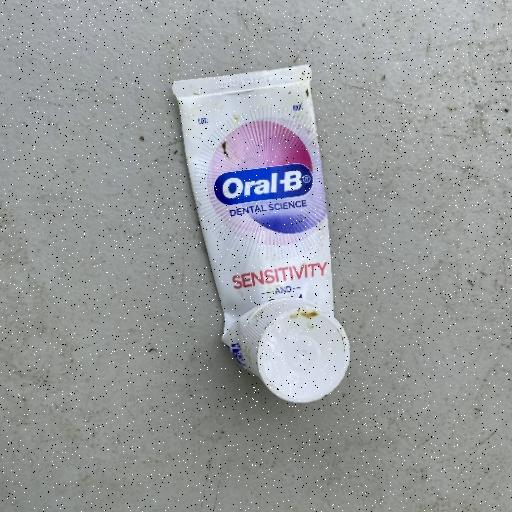Plastic: (169, 62, 353, 404)
